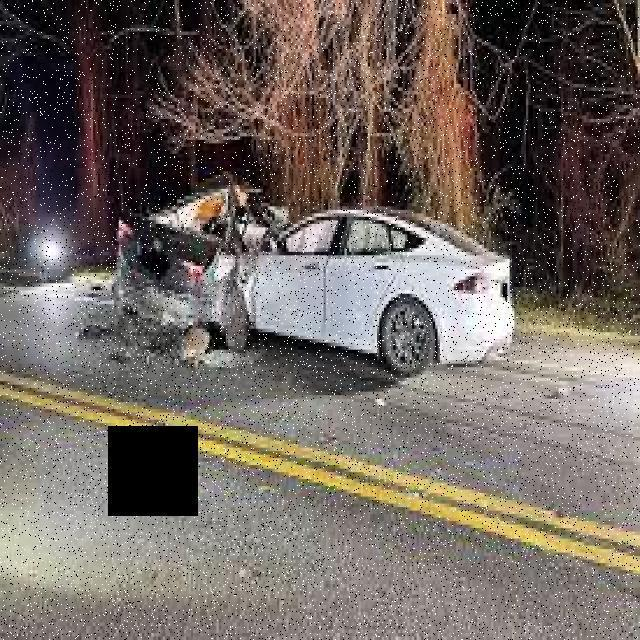single accident: (113, 73, 420, 377)
